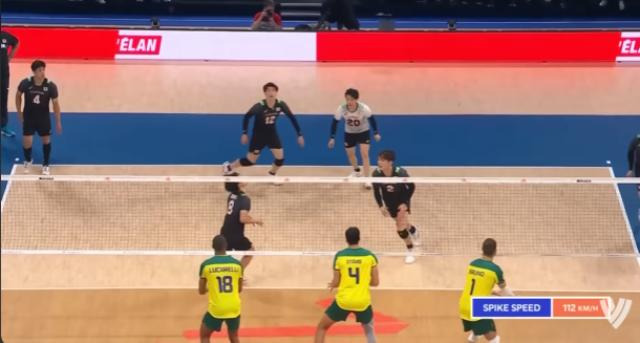Levantador: (202, 162, 280, 284), (452, 225, 516, 343)
Libero: (314, 82, 390, 186)
